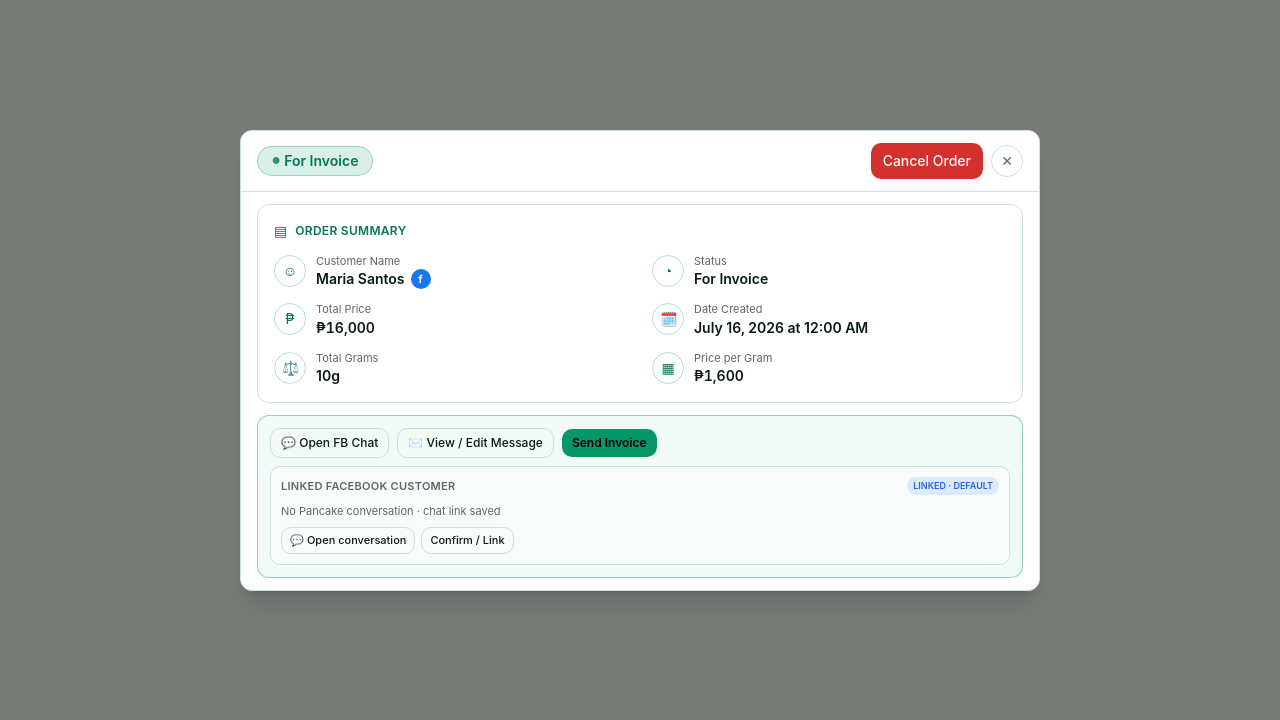
Test case: OrderDetailsModal › shows the simplified For Invoice view (6 fields + FB chat + editable message + Send Invoice)
Expected: the element with test id "for-invoice-fields" does not show "Order Number", [257,204,1023,403]
Expected: the element with test id "for-invoice-fields" shows "Customer Name", [316,254,400,268]
View / Edit Message loads the prepared message into an EDITABLE textarea.
Click the button with test id "order-view-message": coordinates (476, 443) [397,428,554,458]
(page scrolled)
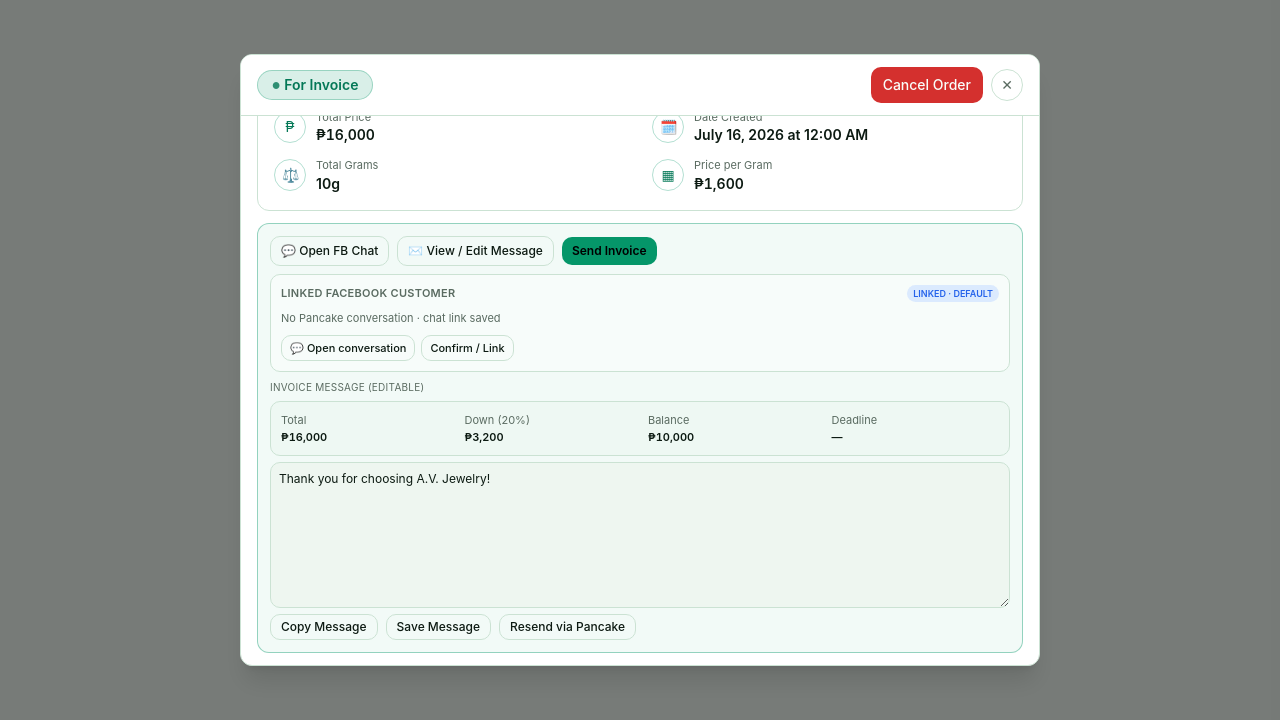
Result: the text box with test id "order-message-edit" holds "Thank you for choosing A.V. Jewelry!" at [270,462,1010,608]
Result: the text box with test id "order-message-edit" is enabled at [270,462,1010,608]
Result: the button with test id "order-message-save" is shown at [386,614,491,640]
